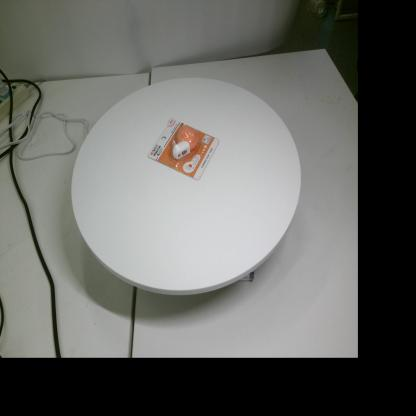Stationery: (148, 118, 219, 180)
